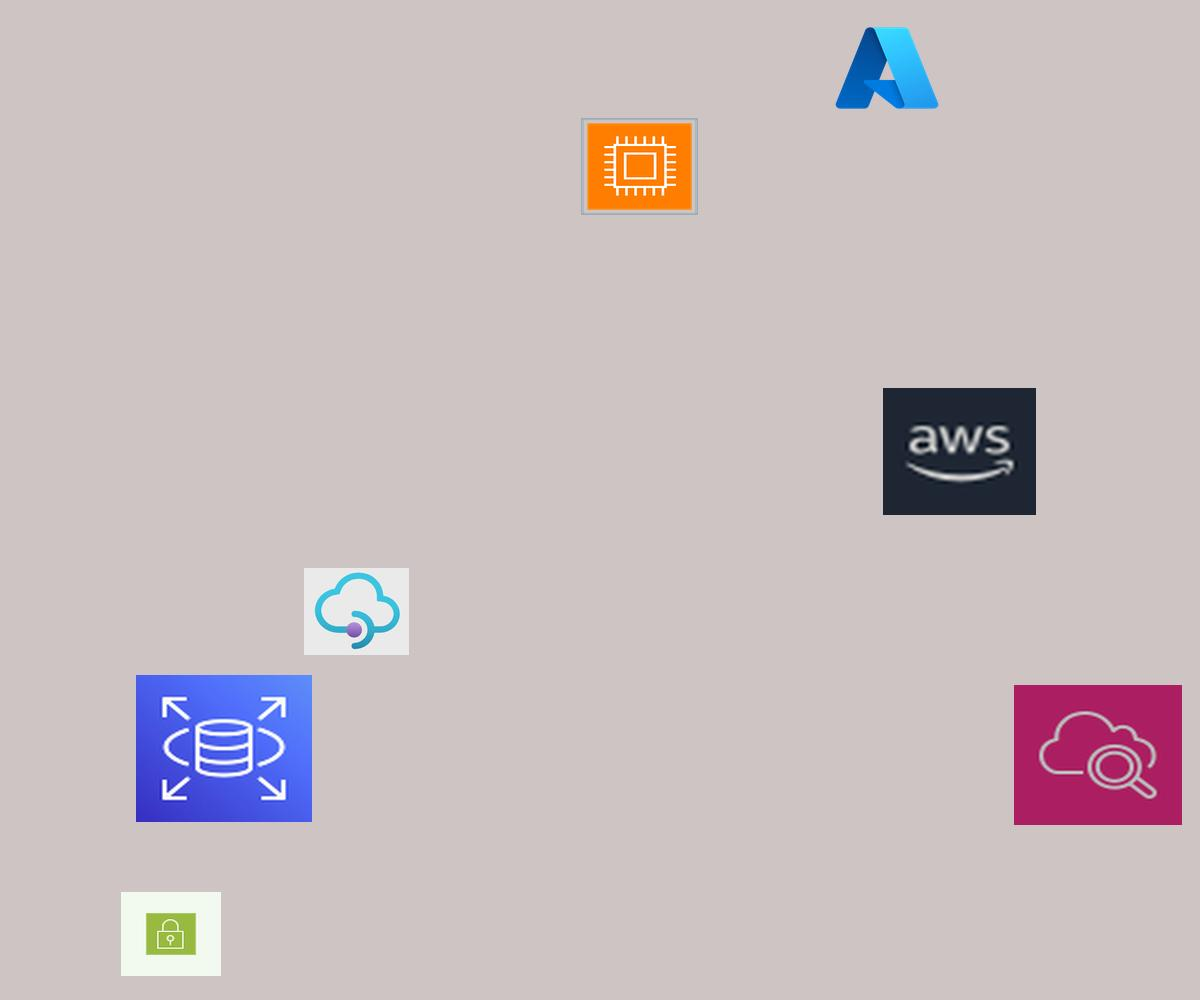AWS-Category_Compute: (581, 118, 698, 215)
AWS-Cloud-logo: (883, 388, 1036, 515)
AWS-CloudWatch: (1014, 685, 1182, 825)
AWS-Public-subnet: (121, 892, 221, 976)
AWS-RDS: (136, 675, 312, 822)
Azure_api_gateway: (304, 568, 409, 655)
Azure_services: (831, 21, 943, 115)
